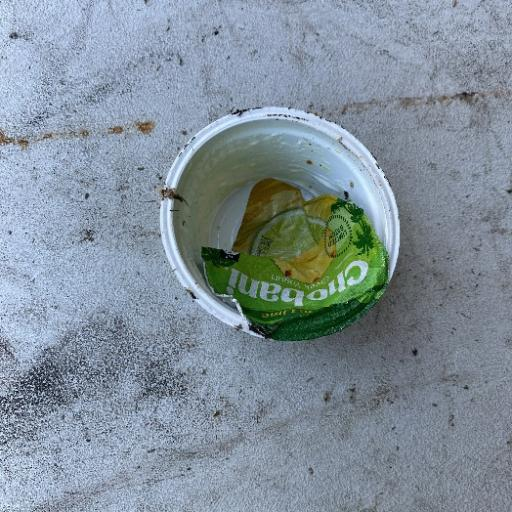Plastic: (198, 177, 391, 342)
